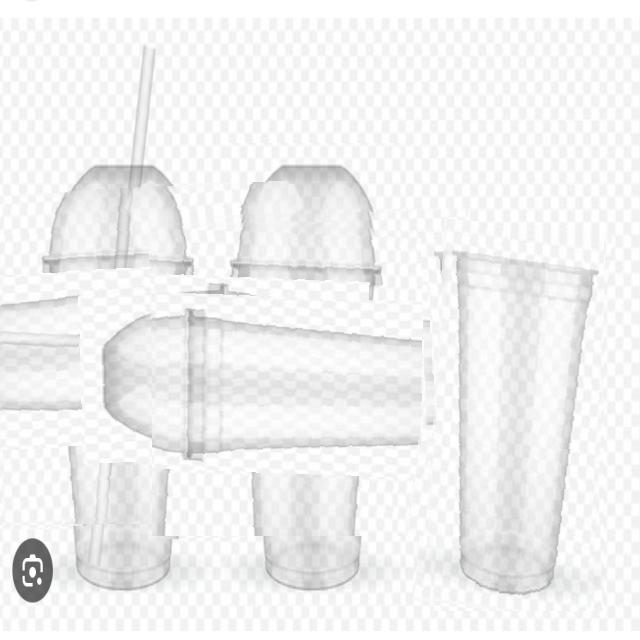recyclable: (152, 212, 477, 536), (0, 184, 299, 525), (420, 222, 604, 611)
